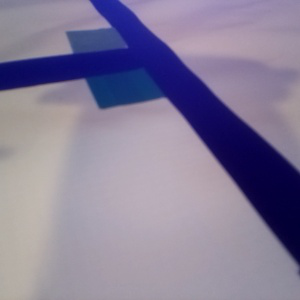bottom_left: (85, 52, 174, 108)
top_left: (65, 26, 144, 67)
